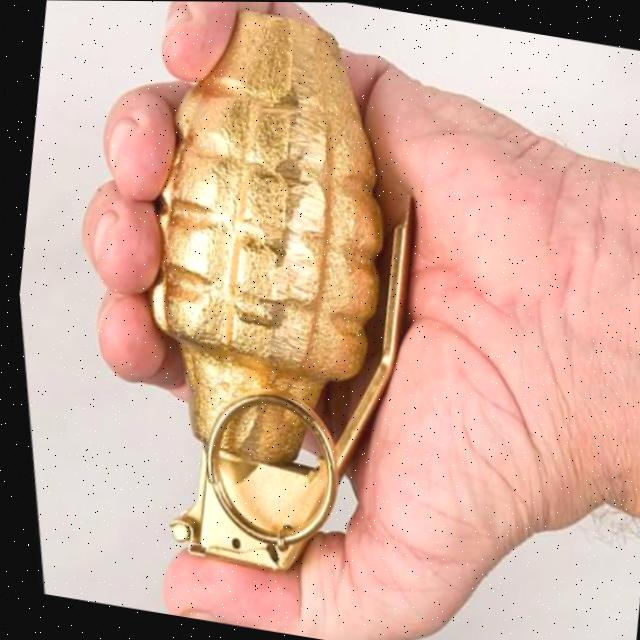grenade: (25, 0, 536, 639)
